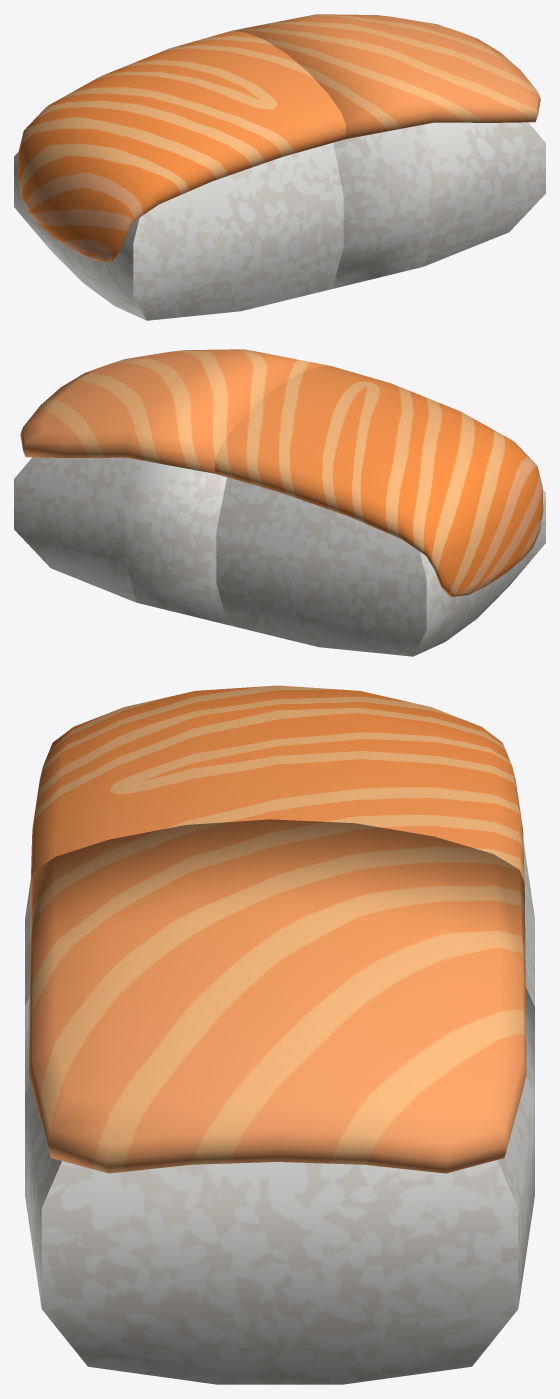
Rendered from SM_NigiriSalmon_Split.fbx.
3 renders of one model, top to bottom at view 1: azimuth 30°, elevation 25°; view 2: azimuth 150°, elevation 25°; view 3: azimuth 270°, elevation 25°, orthographic. The views are drawn at different scales.
Parts seen in each view (by area): view 1: NigiriSalmon_Split, NigiriSalmon_Split2; view 2: NigiriSalmon_Split, NigiriSalmon_Split2; view 3: NigiriSalmon_Split2, NigiriSalmon_Split.
Boxes of the visible parts, x1,y1,x2,y2 form: NigiriSalmon_Split: (14, 30, 346, 320); NigiriSalmon_Split2: (232, 14, 545, 288); NigiriSalmon_Split: (215, 366, 545, 656); NigiriSalmon_Split2: (14, 349, 329, 624); NigiriSalmon_Split2: (25, 819, 534, 1384); NigiriSalmon_Split: (25, 685, 534, 1006).
Bounding box in the file's own units: 17.86 × 7.86 × 8.77.
